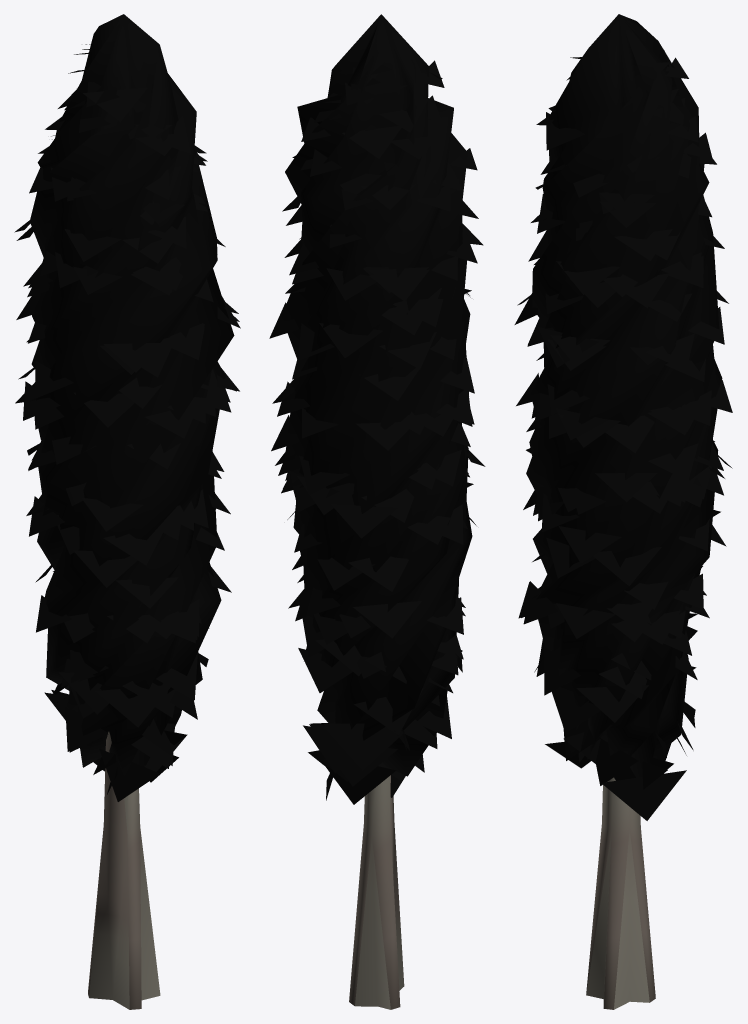
File: Tree_5H.fbx
3 renders of one model, left to right at view 1: azimuth 30°, elevation 25°; view 2: azimuth 150°, elevation 25°; view 3: azimuth 270°, elevation 25°, orthographic.
Parts seen in each view (by area): view 1: Tree_5H; view 2: Tree_5H; view 3: Tree_5H.
Part boxes in pixels (left/top/right/bottom): Tree_5H: left=14, top=14, right=240, bottom=1009; Tree_5H: left=269, top=14, right=485, bottom=1009; Tree_5H: left=514, top=14, right=732, bottom=1009.
Size of the model in its own units: 4.25 by 20.8 by 4.21.
